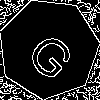G: (24, 24, 84, 83)
